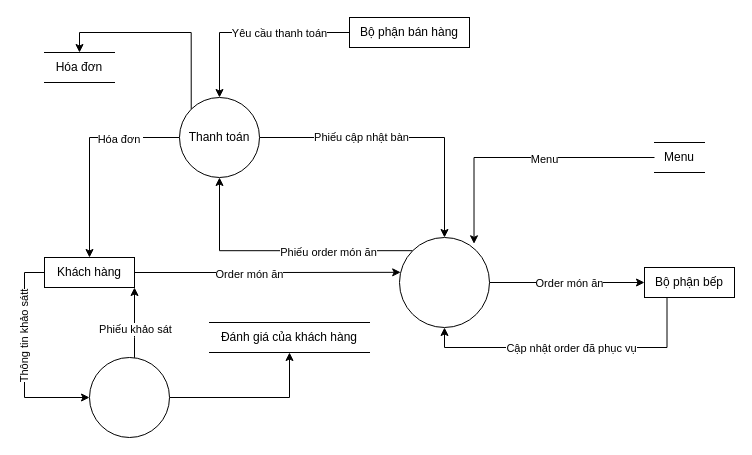
The diagram is 752 pixels wide and 455 high, and some of its shapes have lost their labels. Each missing label, with the centre of its shape:
Khảo sát khách hàng: [129,397]
Xử lý yêu cầu gọi món: [444,282]
